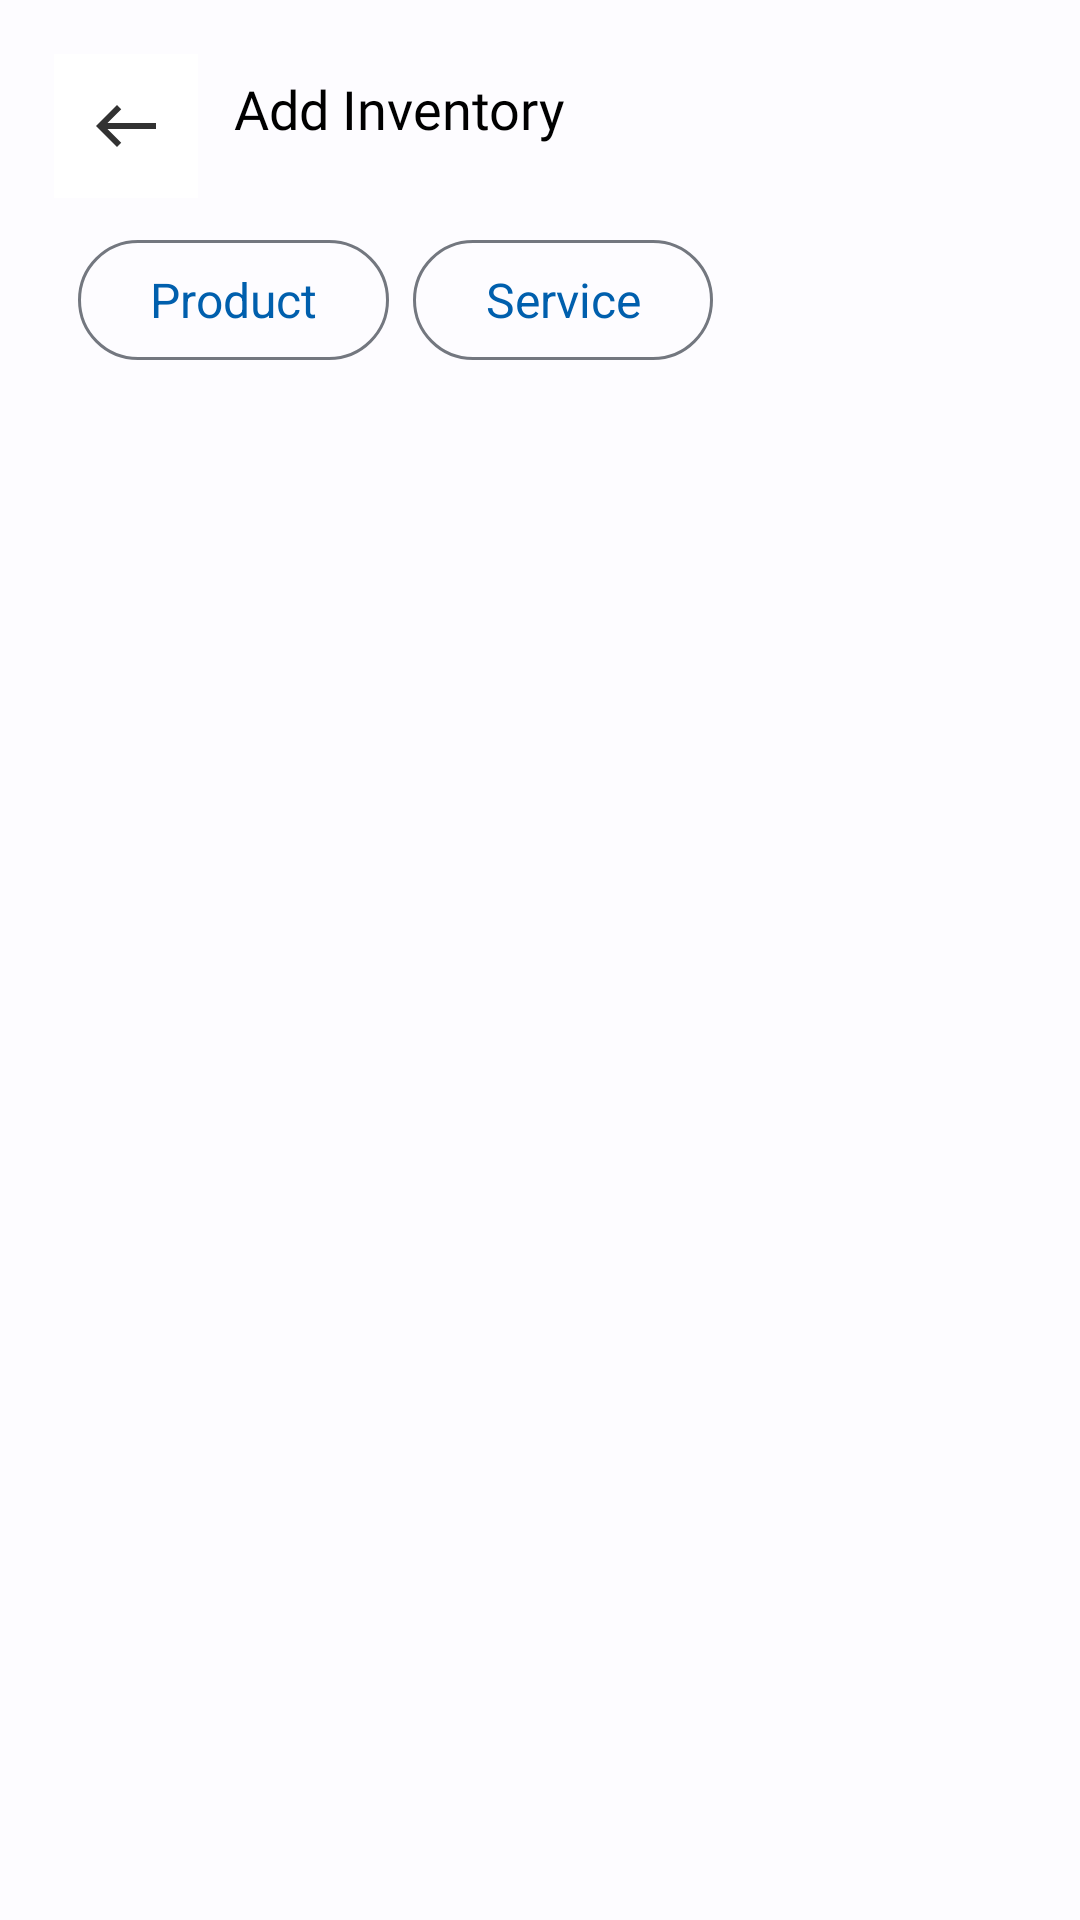

Locate icon controls on the screen. Image size 1080x1920, boxes as box=[x1, y1, x2, y2].
back screen button: box=[96, 105, 156, 147]
